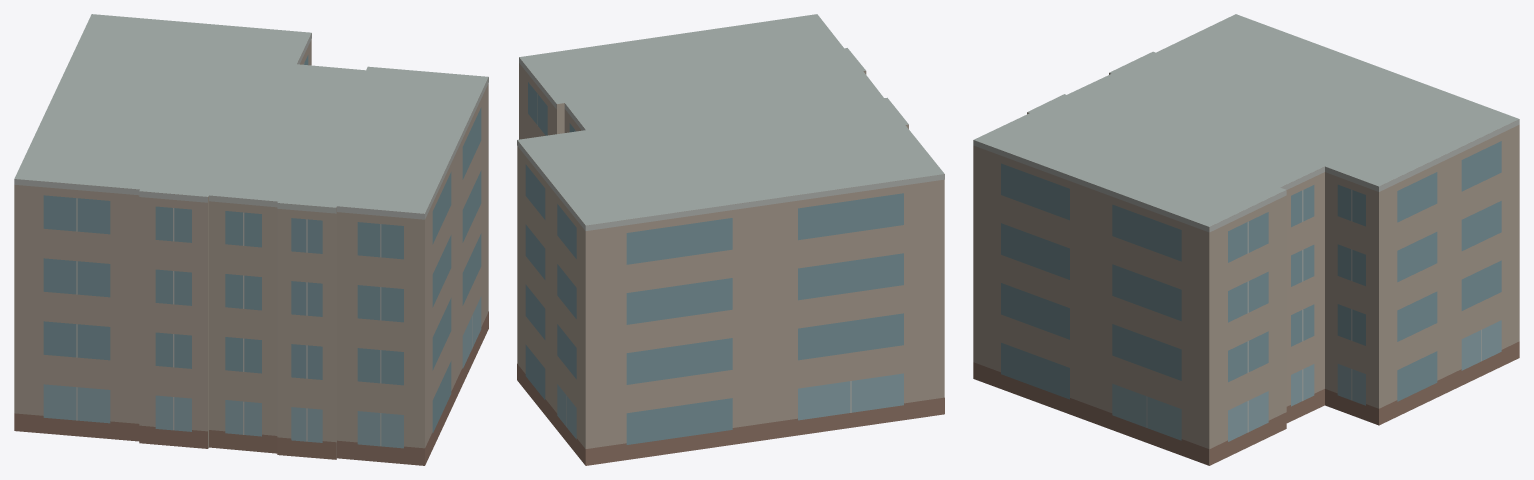
The model's file is survey-upis-33018916.glb.
3 renders of one model, left to right at view 1: azimuth 30°, elevation 25°; view 2: azimuth 150°, elevation 25°; view 3: azimuth 270°, elevation 25°, orthographic. The views are drawn at different scales.
Visible parts, largest first — view 1: survey-upis-33018916.tmp; view 2: survey-upis-33018916.tmp; view 3: survey-upis-33018916.tmp.
Part boxes in pixels (x1,y1,x2,y2): survey-upis-33018916.tmp: [14, 14, 488, 465]; survey-upis-33018916.tmp: [517, 14, 944, 465]; survey-upis-33018916.tmp: [973, 14, 1519, 465].
Size of the model in its own units: 20.09 by 10.5 by 21.76.
